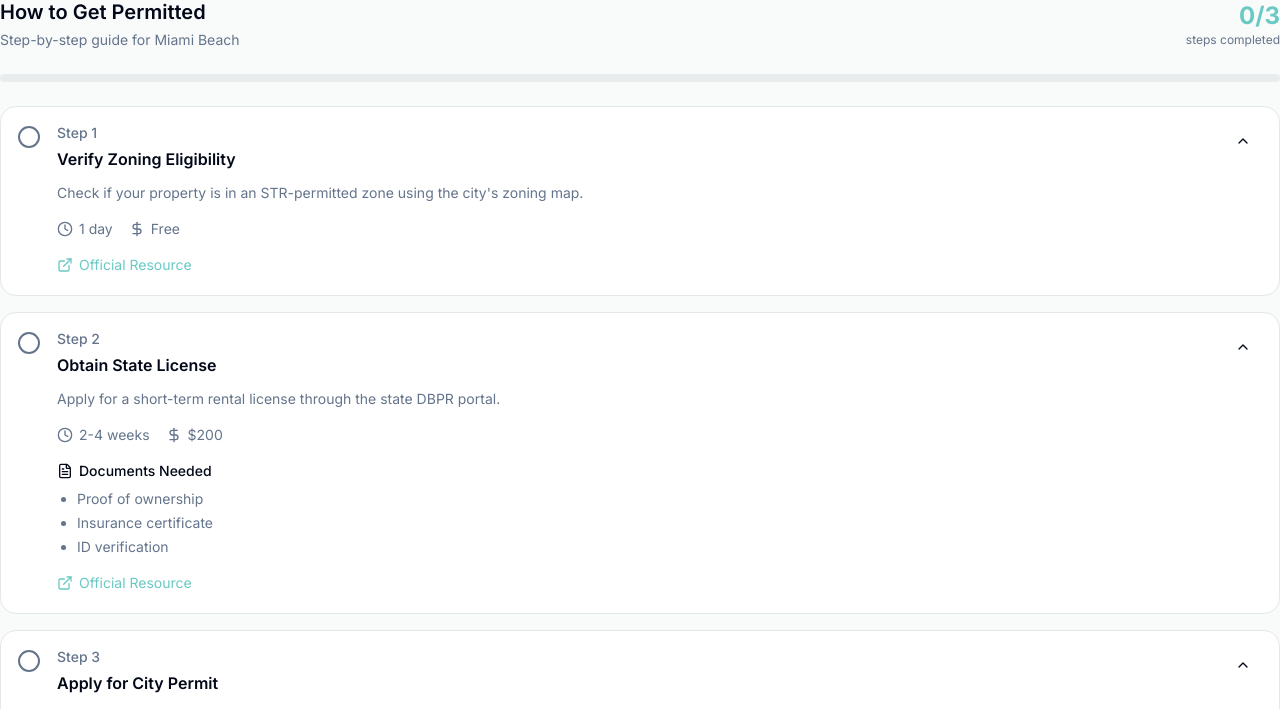
ApplicationSteps component › completion tracking › shows completion message when all steps done
Click the 1st button named "mark as complete". click: (29, 137)
box: [17, 125, 41, 149]
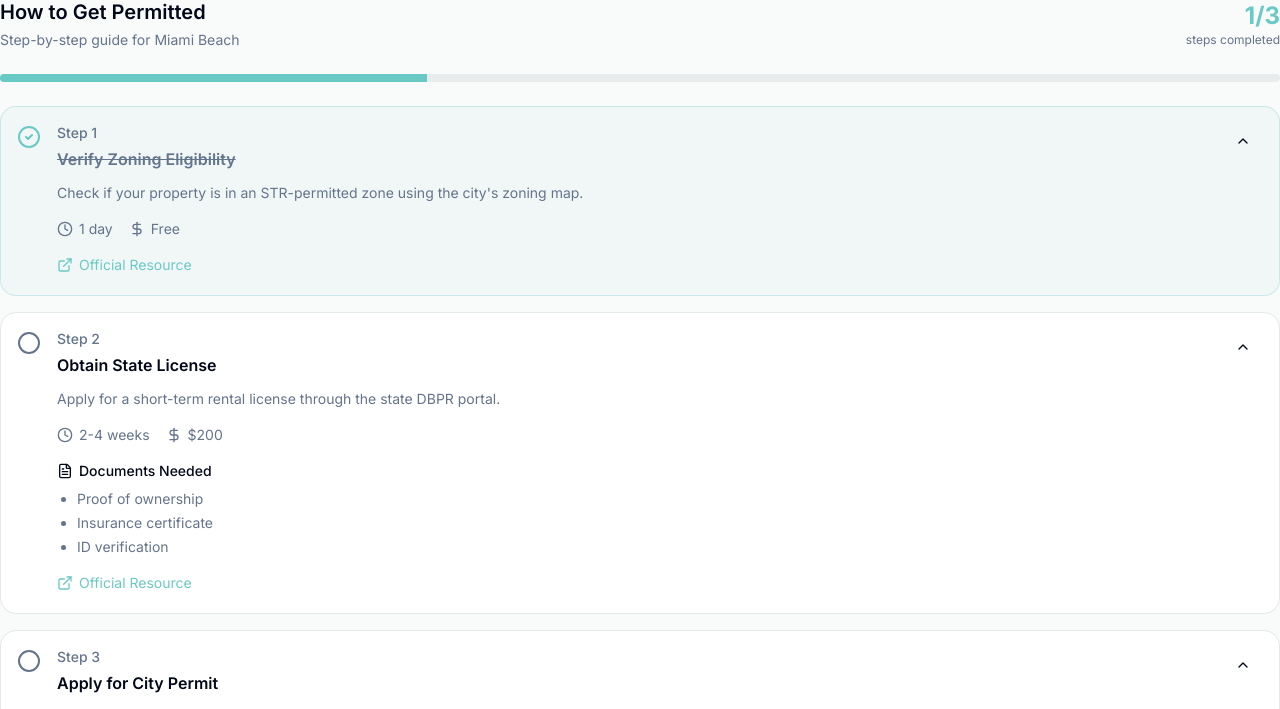
Click the 1st button named "mark as complete". click: (29, 343)
box: [17, 331, 41, 355]
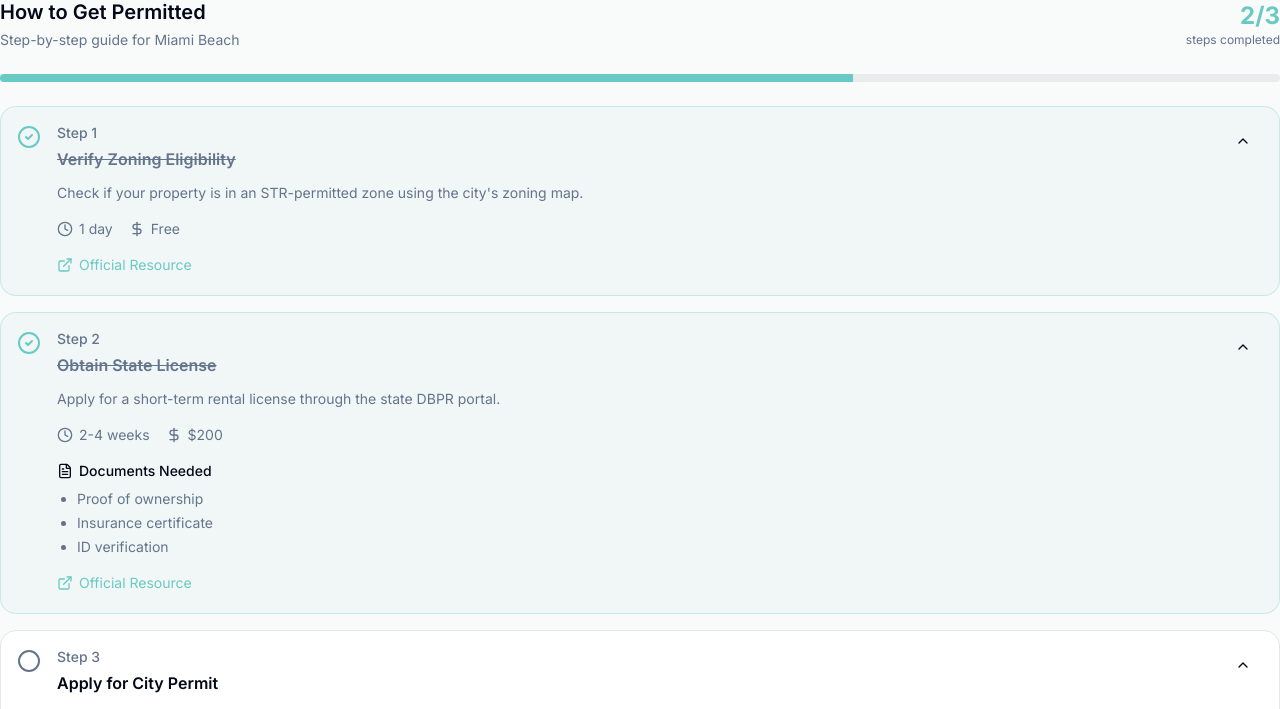
Click the button named "mark as complete". click: (29, 661)
box: [17, 649, 41, 673]
(page scrolled)
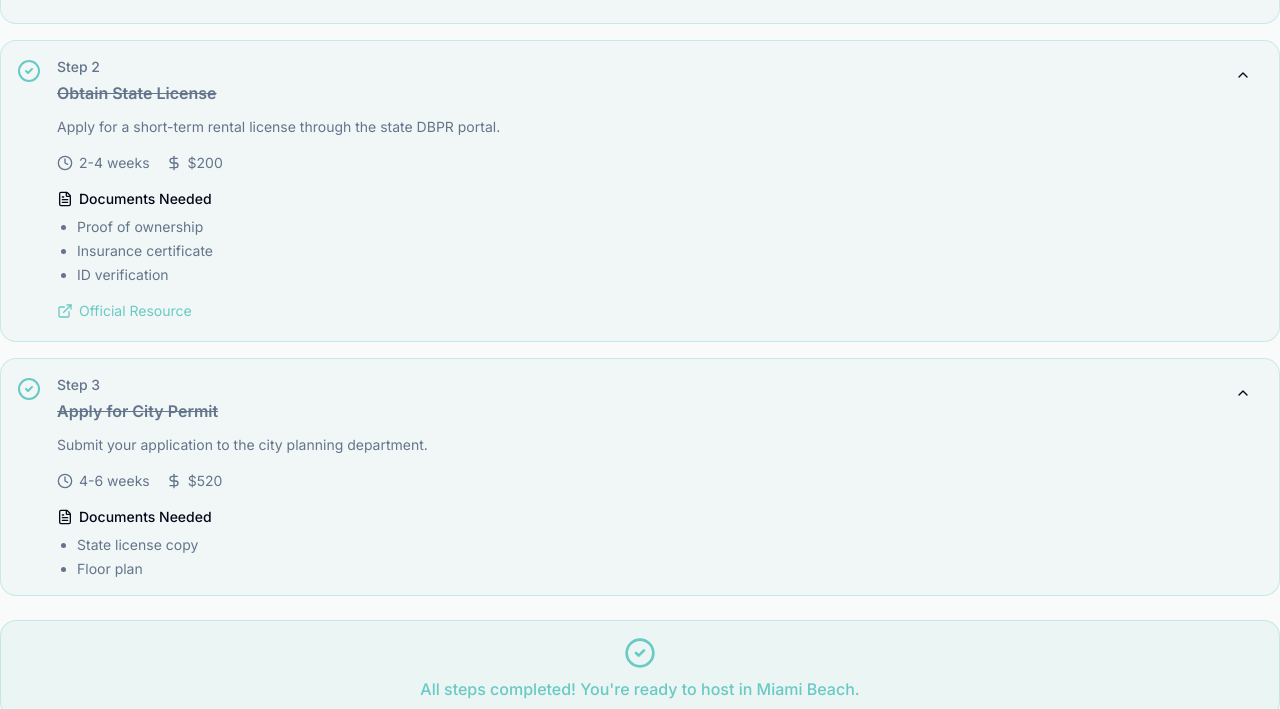
Result: the text "All steps completed! You're ready to host in Miami Beach." is shown at [420, 679, 860, 699]
